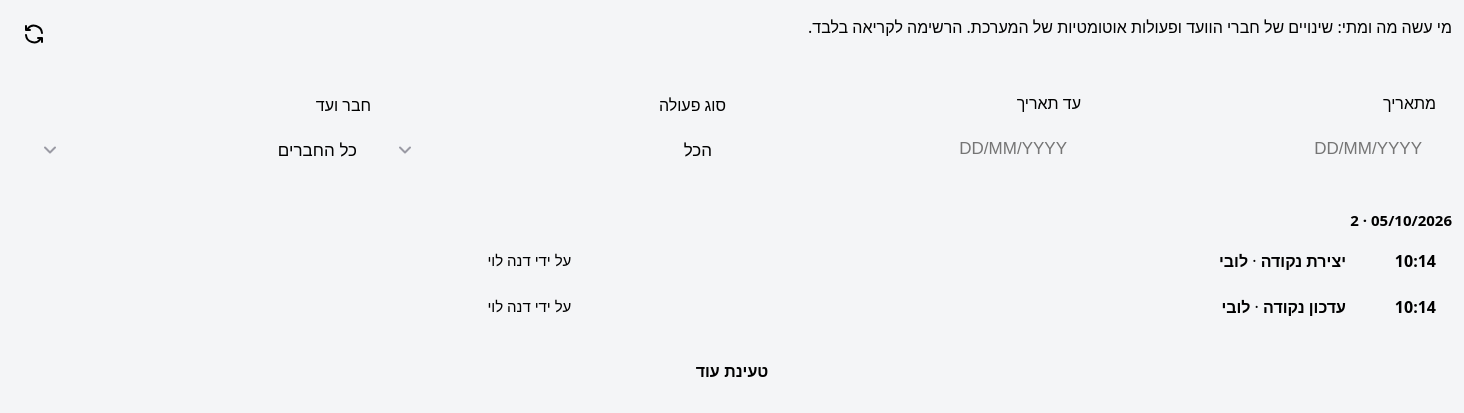
Test: paging › keeps the filters on the next page, and does not list an entry twice
Expected: the text "יצירת נקודה" is shown, left=1261, top=250, right=1346, bottom=272
Select "נקודות" in the dropdown labelled "סוג פעולה". click: (554, 150)
box: left=383, top=124, right=726, bottom=176
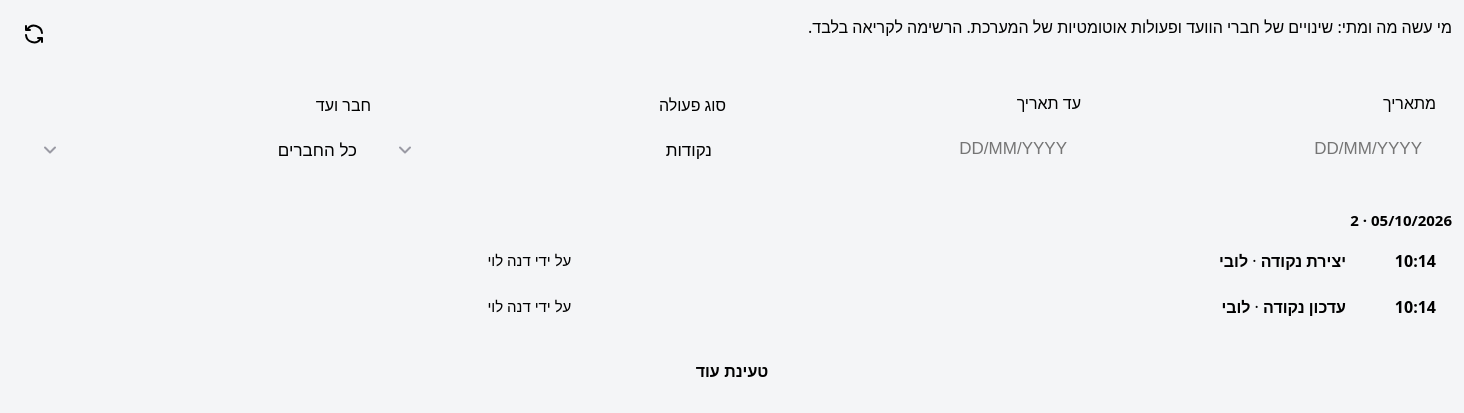
Expected: the text "יצירת נקודה" is shown, left=1261, top=250, right=1346, bottom=272
Click the button "טעינת עוד". click: (732, 372)
box: left=678, top=348, right=786, bottom=396
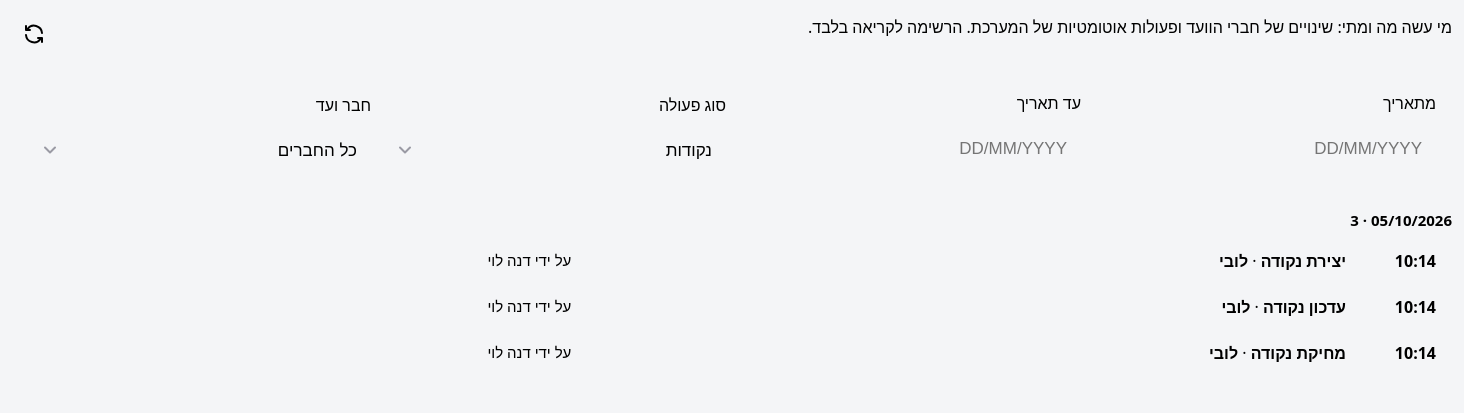
Now the text "מחיקת נקודה" is shown, box left=1251, top=342, right=1346, bottom=364
Now the text "עדכון נקודה" is shown once, box left=1263, top=296, right=1346, bottom=318
